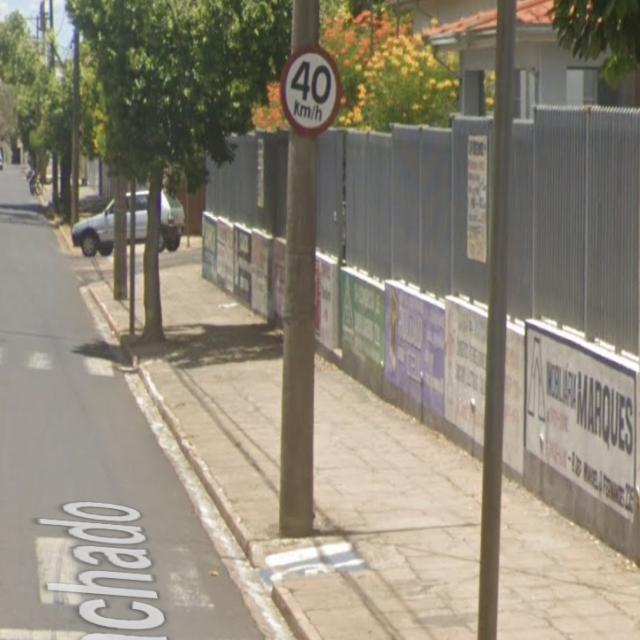speed limit: (275, 32, 348, 158)
